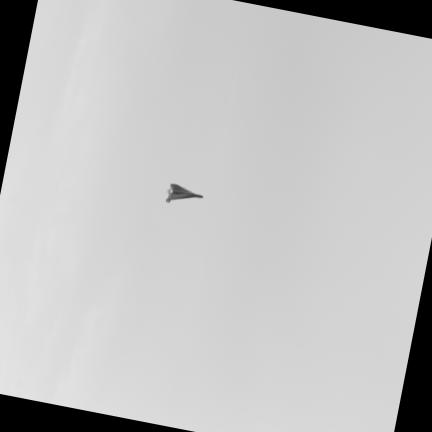Shahed: (166, 183, 202, 200)
